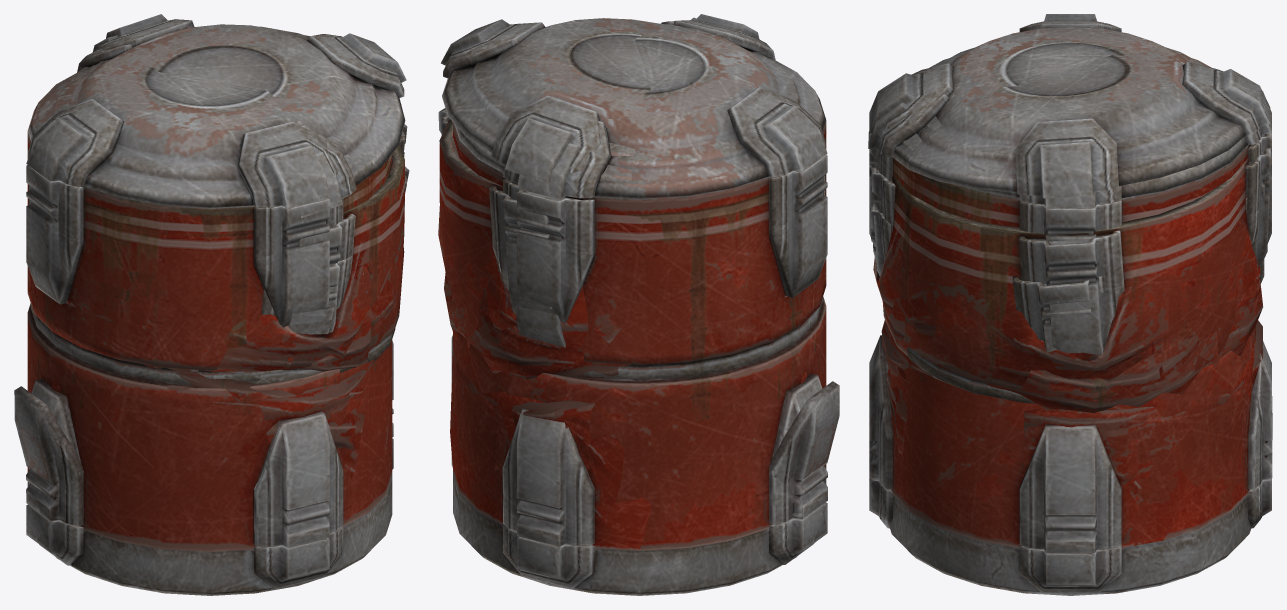
Rendered from prop_barrel_destructable.fbx.
The picture shows the model from 3 angles, left to right: view 1: azimuth 30°, elevation 25°; view 2: azimuth 150°, elevation 25°; view 3: azimuth 270°, elevation 25°; orthographic projection. The views are drawn at different scales.
Parts seen in each view (by area): view 1: prop_barrel_l01_base, prop_barrel_l01_lid, prop_barrel_l02_base, prop_barrel_l02_lid, prop_barrel_l03_base; view 2: prop_barrel_l01_base, prop_barrel_l01_lid, prop_barrel_l02_base, prop_barrel_l02_lid, prop_barrel_l03_base; view 3: prop_barrel_l02_base, prop_barrel_l01_base, prop_barrel_l02_lid, prop_barrel_l03_base, prop_barrel_l01_lid.
Part boxes in pixels (box(x1,y1,x2,y2)): prop_barrel_l01_base: box(26, 131, 393, 595); prop_barrel_l01_lid: box(26, 35, 359, 208); prop_barrel_l02_base: box(26, 124, 407, 591); prop_barrel_l02_lid: box(68, 14, 406, 218); prop_barrel_l03_base: box(14, 166, 409, 579); prop_barrel_l01_base: box(451, 120, 827, 595); prop_barrel_l01_lid: box(454, 14, 827, 198); prop_barrel_l02_base: box(438, 108, 827, 591); prop_barrel_l02_lid: box(441, 17, 696, 183); prop_barrel_l03_base: box(444, 235, 839, 576); prop_barrel_l02_base: box(869, 148, 1271, 593); prop_barrel_l01_base: box(869, 133, 1271, 595); prop_barrel_l02_lid: box(868, 49, 1270, 198); prop_barrel_l03_base: box(870, 184, 1272, 507); prop_barrel_l01_lid: box(869, 14, 1271, 208).
Bounding box in the file's own units: 126 × 147 × 118.
